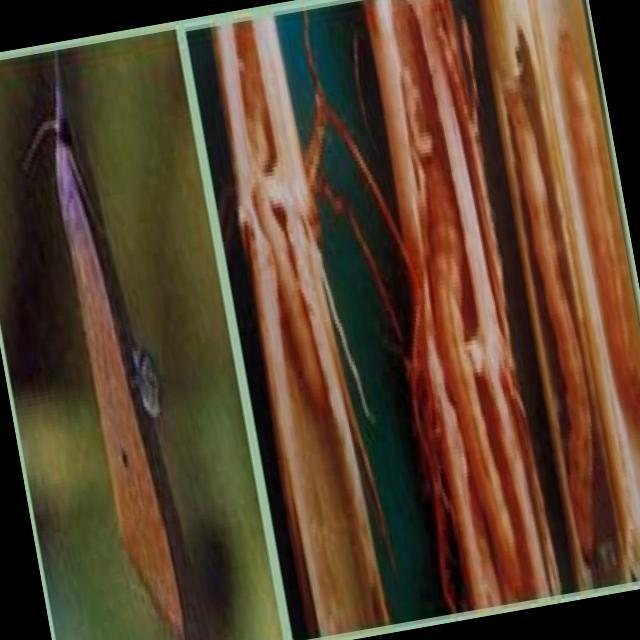stem borer: (213, 0, 560, 634), (479, 0, 639, 590), (45, 72, 184, 639)
